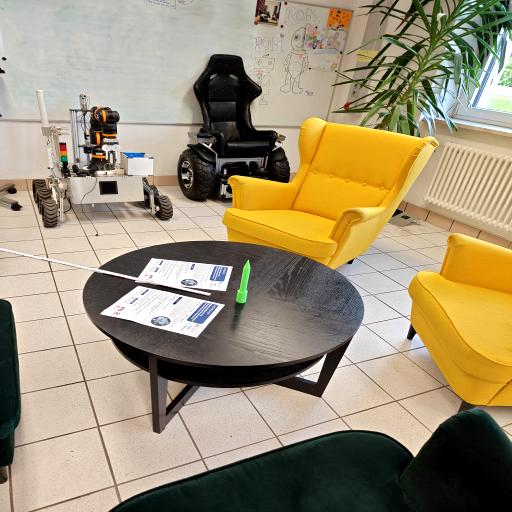Probe-Detection: (236, 260, 250, 303)
